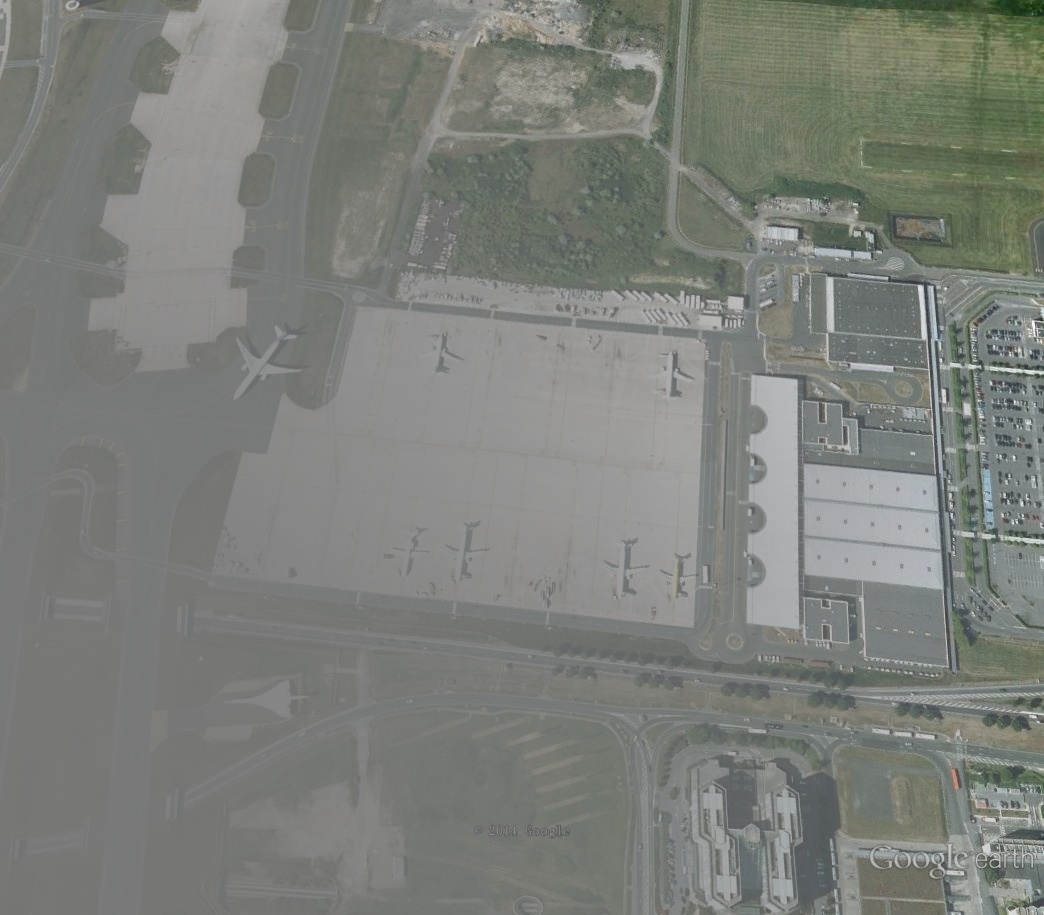aircraft: (231, 325, 307, 405), (597, 537, 652, 603), (438, 522, 496, 583), (411, 331, 468, 382), (648, 351, 699, 405), (387, 528, 433, 582), (657, 550, 702, 600)
